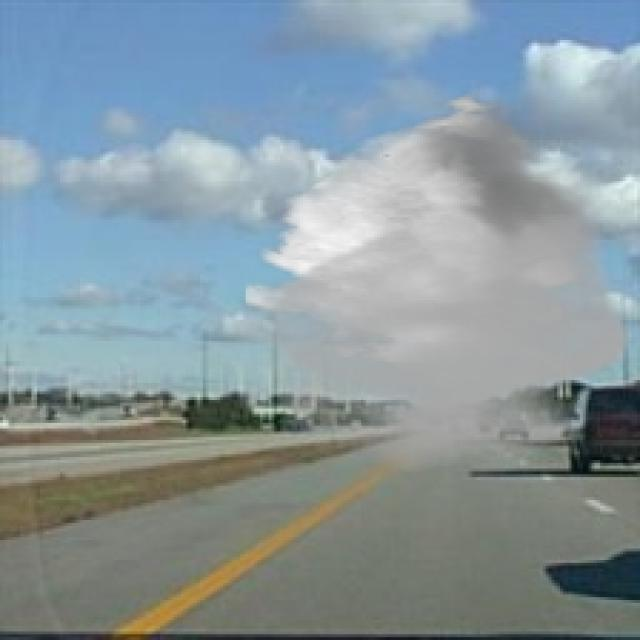smoke: (246, 91, 637, 472)
